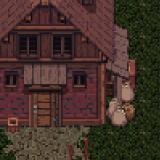Interaction: (58, 144, 101, 160)
Obstacle: (0, 0, 155, 160)
